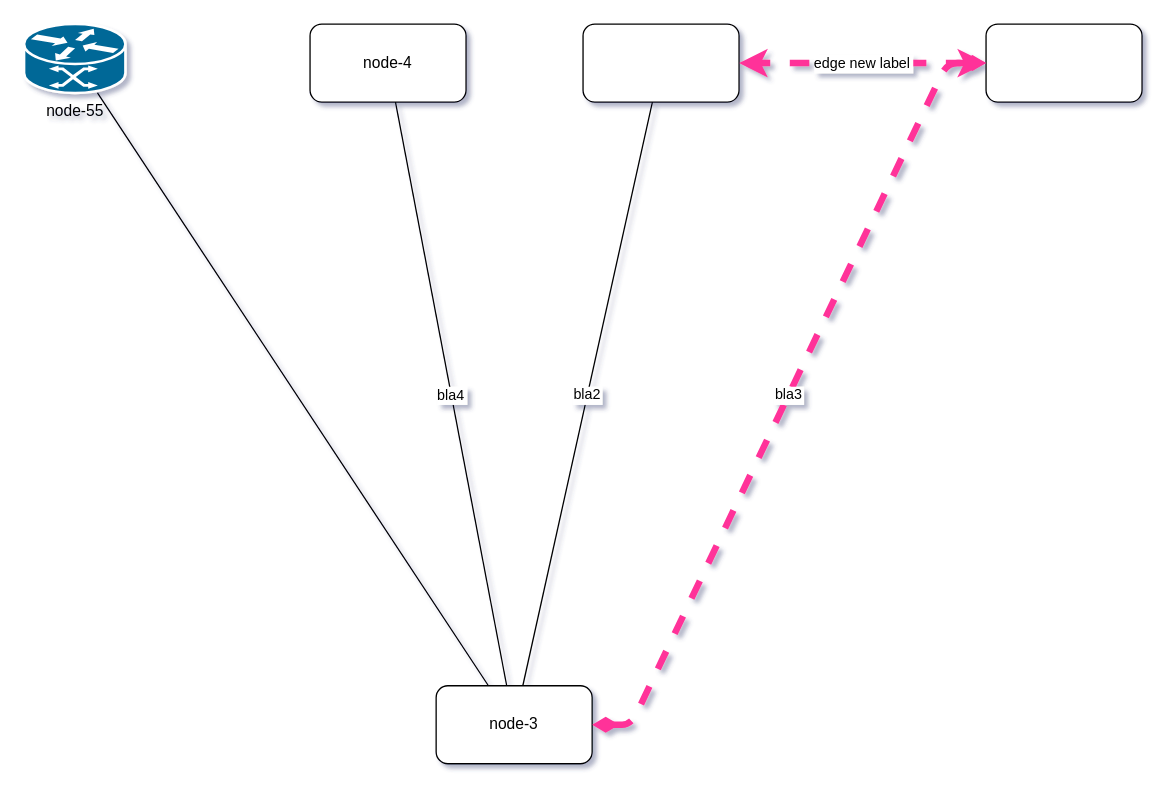
Some shapes in this 1173 by 794 pixel diagram are drawn without their labels. Each missing label, with the centre of its shape:
"node-1" goes at (x=1063, y=62).
"node-2" goes at (x=660, y=62).
